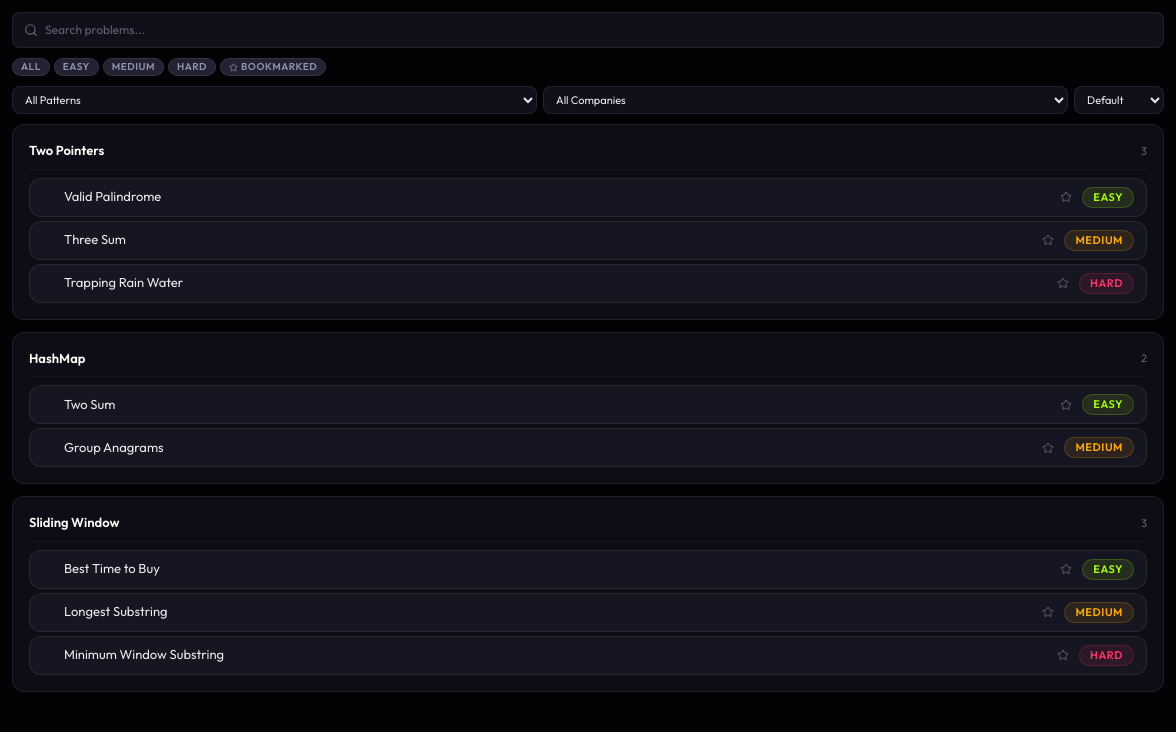
Test: ProblemList › difficulty filter › filters to Easy problems when Easy chip clicked
The width and height of the screenshot is (1176, 732).
Click the button "Easy". click: (76, 67)
box: [54,58,99,76]
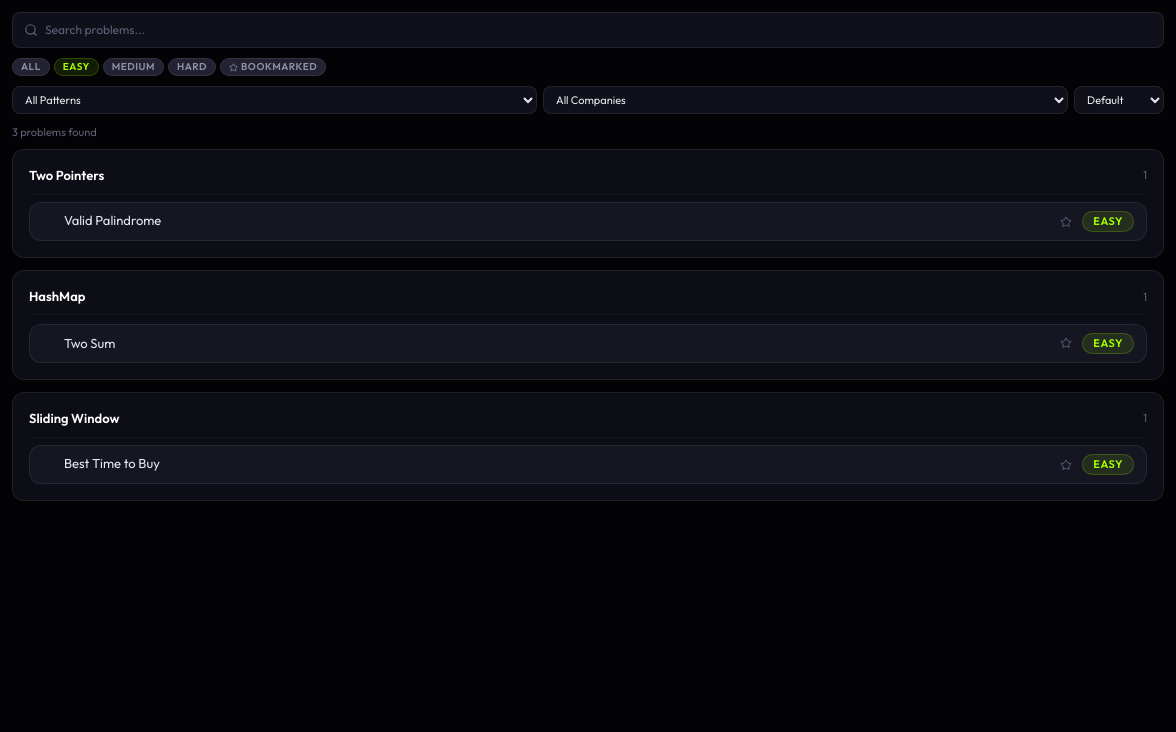
expect the text "Valid Palindrome" is shown: met, box [64,213,161,229]
expect the text "Three Sum" is gone: met
expect the text "Trapping Rain Water" is gone: met
